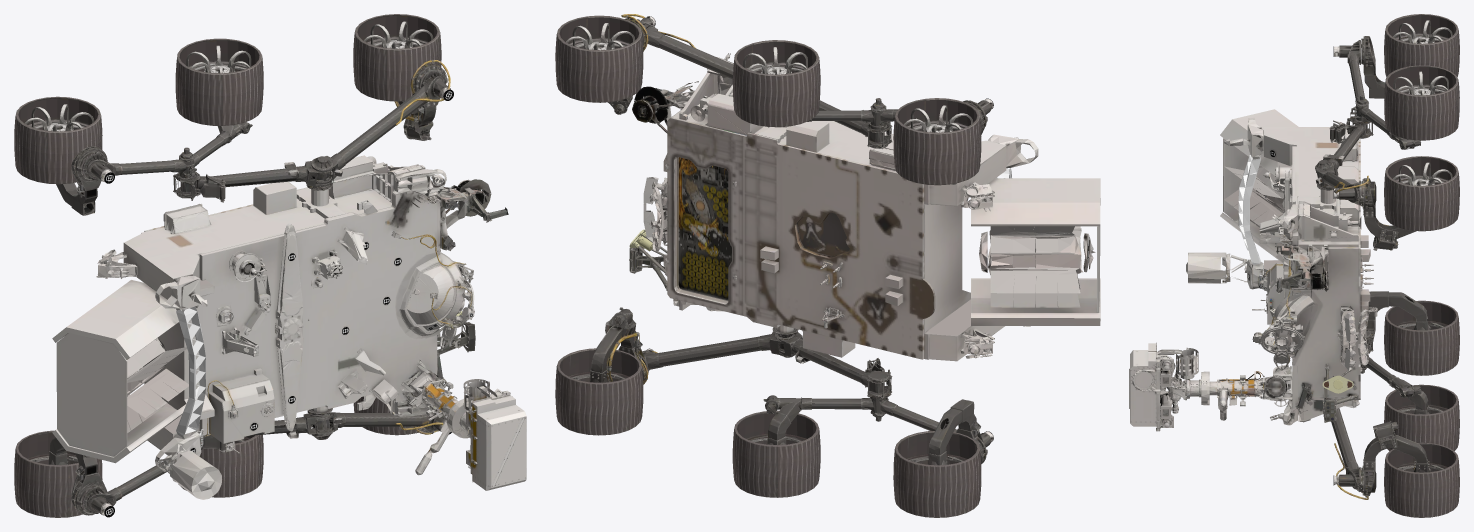
File: rover.glb
3 views of the same model, side by side, from view 1: azimuth 30°, elevation 25°; view 2: azimuth 150°, elevation 25°; view 3: azimuth 270°, elevation 25° (orthographic). The views are drawn at different scales.
Parts seen in each view (by area): view 1: chassis:CHASSIS, wheel_lm:Wheel_LeftMiddle, wheel_lr:Wheel_LeftRear, wheel_lf:Wheel_LeftFront, mast_elevation:RSM_Head, left_rocker:Left_Rocker, wheel_rr:Wheel_RightRear, differential:CenterDifferential, left_bogie:Left_Bogie, right_rocker:Right_Rocker, wheel_rm:Wheel_RightMiddle, steer_lf:Steer_LeftFront (+5 smaller); view 2: chassis:CHASSIS, wheel_lf:Wheel_LeftFront, wheel_lr:Wheel_LeftRear, wheel_lm:Wheel_LeftMiddle, wheel_rr:Wheel_RightRear, wheel_rf:Wheel_RightFront, wheel_rm:Wheel_RightMiddle, right_rocker:Right_Rocker, right_bogie:Right_Bogie, left_rocker:Left_Rocker, steer_rf:Steer_RightFront, steer_rr:Steer_RightRear (+1 smaller); view 3: chassis:CHASSIS, wheel_lf:Wheel_LeftFront, wheel_lm:Wheel_LeftMiddle, wheel_rr:Wheel_RightRear, wheel_rf:Wheel_RightFront, mast_elevation:RSM_Head, wheel_lr:Wheel_LeftRear, wheel_rm:Wheel_RightMiddle, left_rocker:Left_Rocker, steer_rf:Steer_RightFront, left_bogie:Left_Bogie, steer_lf:Steer_LeftFront (+6 smaller).
Part boxes in pixels (x1,y1,x2,y2): chassis:CHASSIS: (52, 155, 508, 499); wheel_lm:Wheel_LeftMiddle: (175, 38, 263, 125); wheel_lr:Wheel_LeftRear: (14, 96, 102, 184); wheel_lf:Wheel_LeftFront: (353, 14, 441, 101); mast_elevation:RSM_Head: (463, 379, 526, 490); left_rocker:Left_Rocker: (173, 70, 453, 202); wheel_rr:Wheel_RightRear: (14, 430, 102, 517); differential:CenterDifferential: (275, 223, 303, 431); left_bogie:Left_Bogie: (82, 70, 252, 200); right_rocker:Right_Rocker: (202, 408, 451, 452); wheel_rm:Wheel_RightMiddle: (178, 434, 263, 497); steer_lf:Steer_LeftFront: (394, 45, 450, 140); chassis:CHASSIS: (629, 53, 1100, 361); wheel_lf:Wheel_LeftFront: (555, 15, 643, 102); wheel_lr:Wheel_LeftRear: (893, 98, 981, 185); wheel_lm:Wheel_LeftMiddle: (732, 40, 820, 127); wheel_rr:Wheel_RightRear: (893, 431, 981, 517); wheel_rf:Wheel_RightFront: (555, 348, 643, 435); wheel_rm:Wheel_RightMiddle: (732, 410, 820, 497); right_rocker:Right_Rocker: (642, 327, 892, 421); right_bogie:Right_Bogie: (763, 369, 993, 447); left_rocker:Left_Rocker: (637, 16, 892, 148); steer_rf:Steer_RightFront: (590, 307, 648, 384); steer_rr:Steer_RightRear: (928, 399, 987, 465); chassis:CHASSIS: (1186, 109, 1377, 425); wheel_lf:Wheel_LeftFront: (1384, 156, 1459, 231); wheel_lm:Wheel_LeftMiddle: (1384, 65, 1459, 140); wheel_rr:Wheel_RightRear: (1384, 300, 1459, 375); wheel_rf:Wheel_RightFront: (1384, 442, 1459, 517); mast_elevation:RSM_Head: (1129, 342, 1198, 431); wheel_lr:Wheel_LeftRear: (1384, 14, 1459, 76); wheel_rm:Wheel_RightMiddle: (1384, 384, 1459, 450); left_rocker:Left_Rocker: (1315, 95, 1372, 205); steer_rf:Steer_RightFront: (1337, 421, 1429, 499); left_bogie:Left_Bogie: (1333, 40, 1420, 149); steer_lf:Steer_LeftFront: (1336, 175, 1424, 250).
Size of the model in its own units: 3.08 by 2.7 by 2.22.
1 material, 1 textured.
